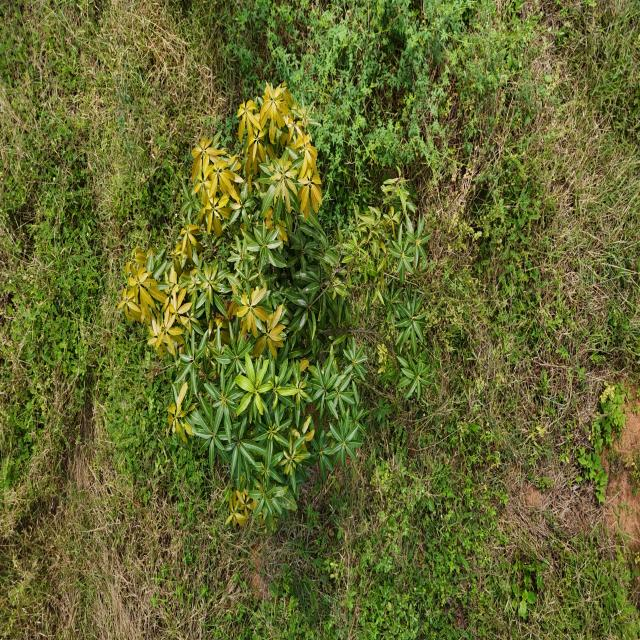mangoTree: (116, 82, 435, 538)
